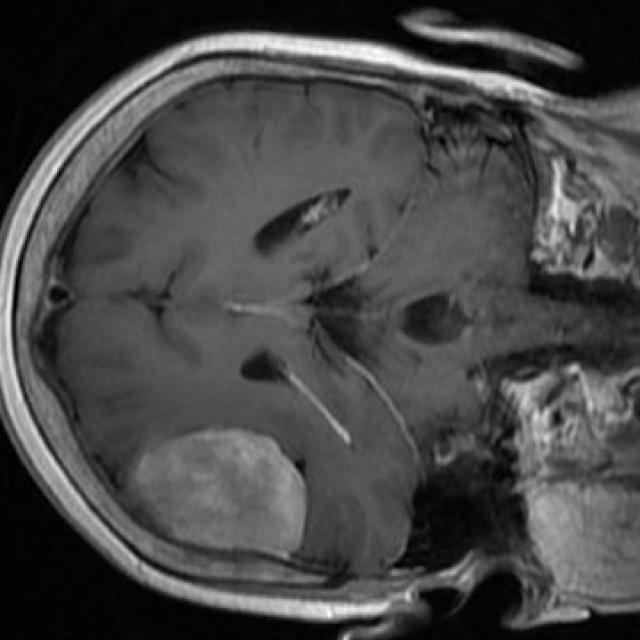meningioma: (135, 430, 307, 556)
